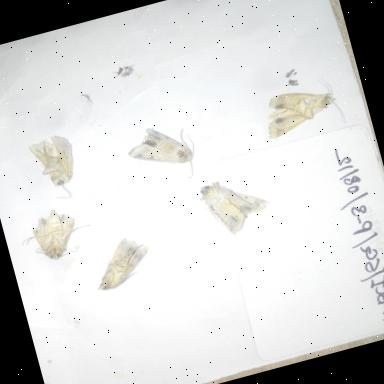abw: (249, 72, 356, 150), (118, 112, 215, 198), (190, 164, 282, 247), (9, 196, 103, 272), (22, 124, 98, 210), (79, 228, 165, 300)
